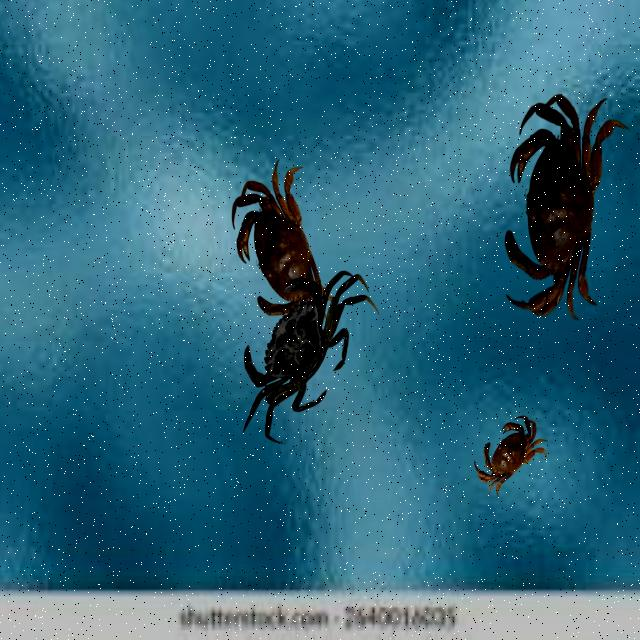European_Green_Crab: (222, 276, 360, 458)
